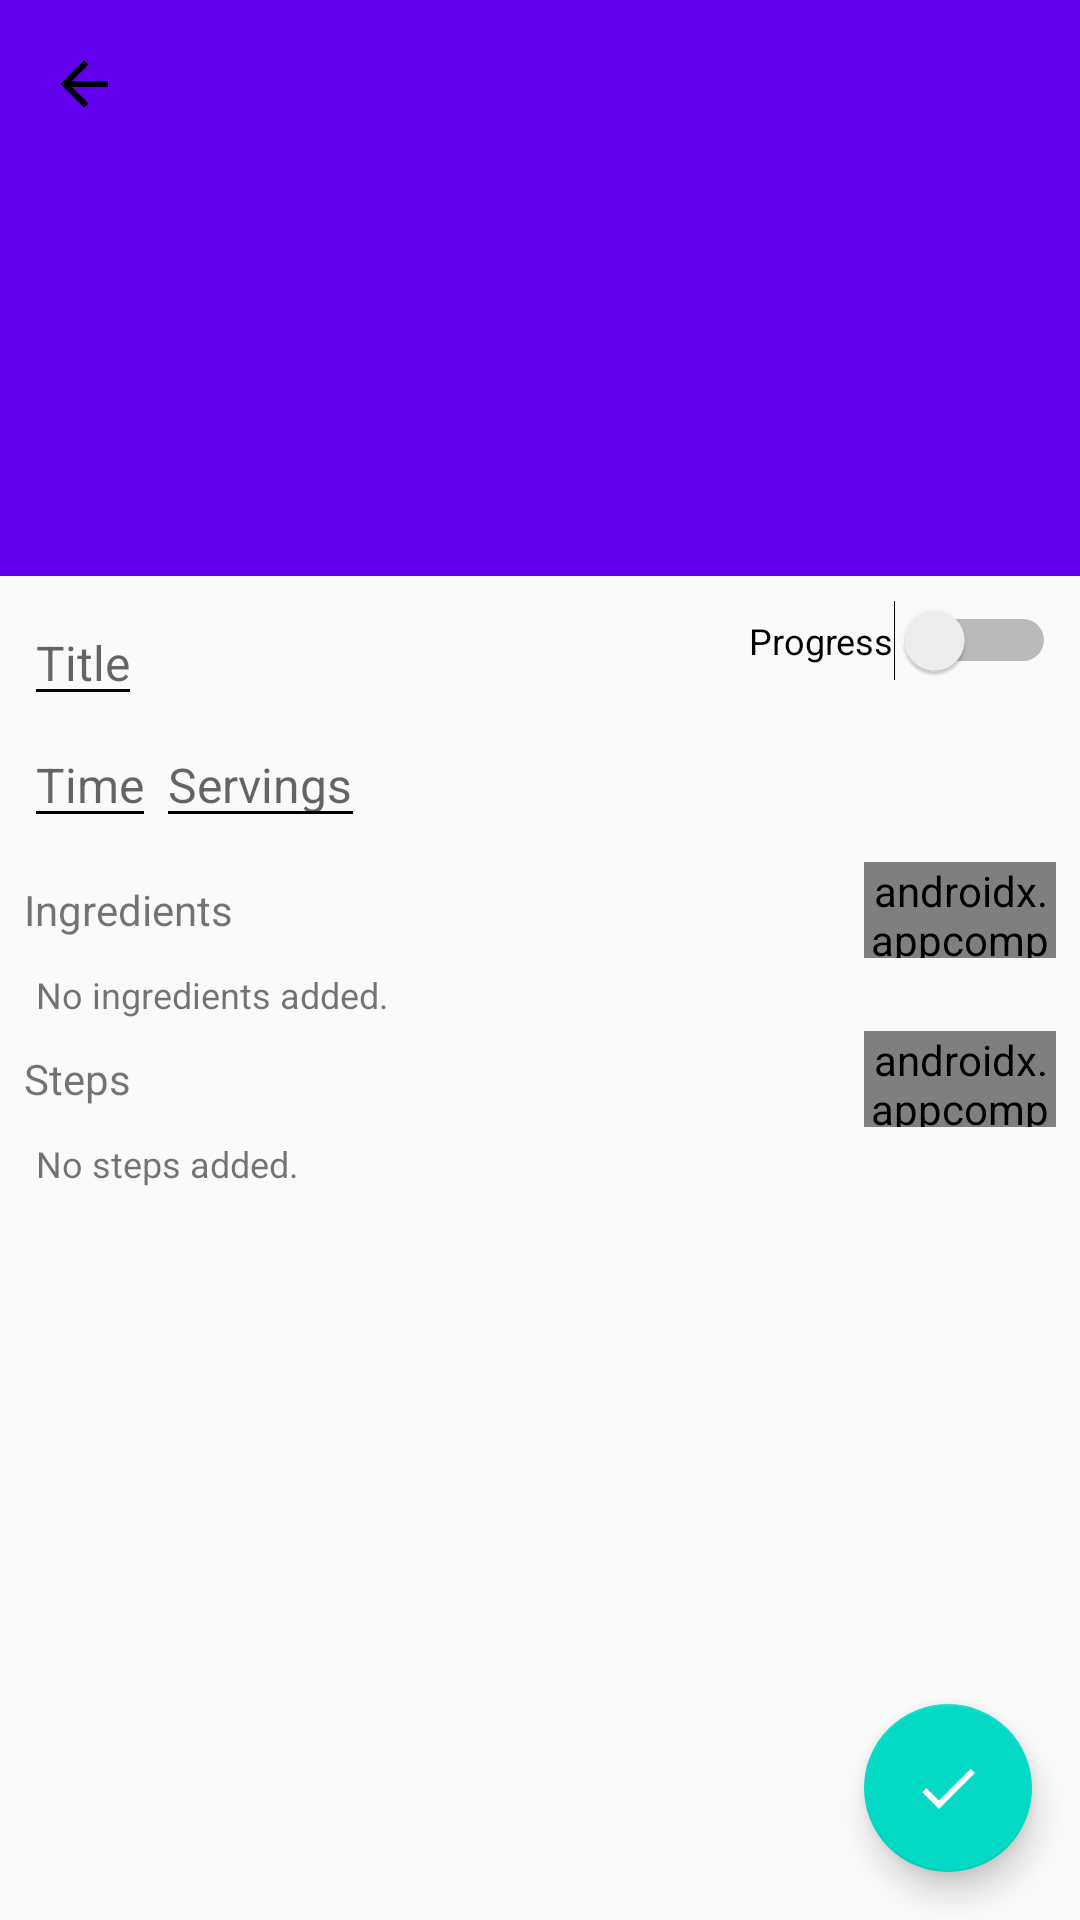

Where icons sit on this 1080px x 1920px app screen, as {"x1": x1, "y1": y1, "x2": x2, "y2": y2}:
complete: {"x1": 864, "y1": 1704, "x2": 1032, "y2": 1872}
